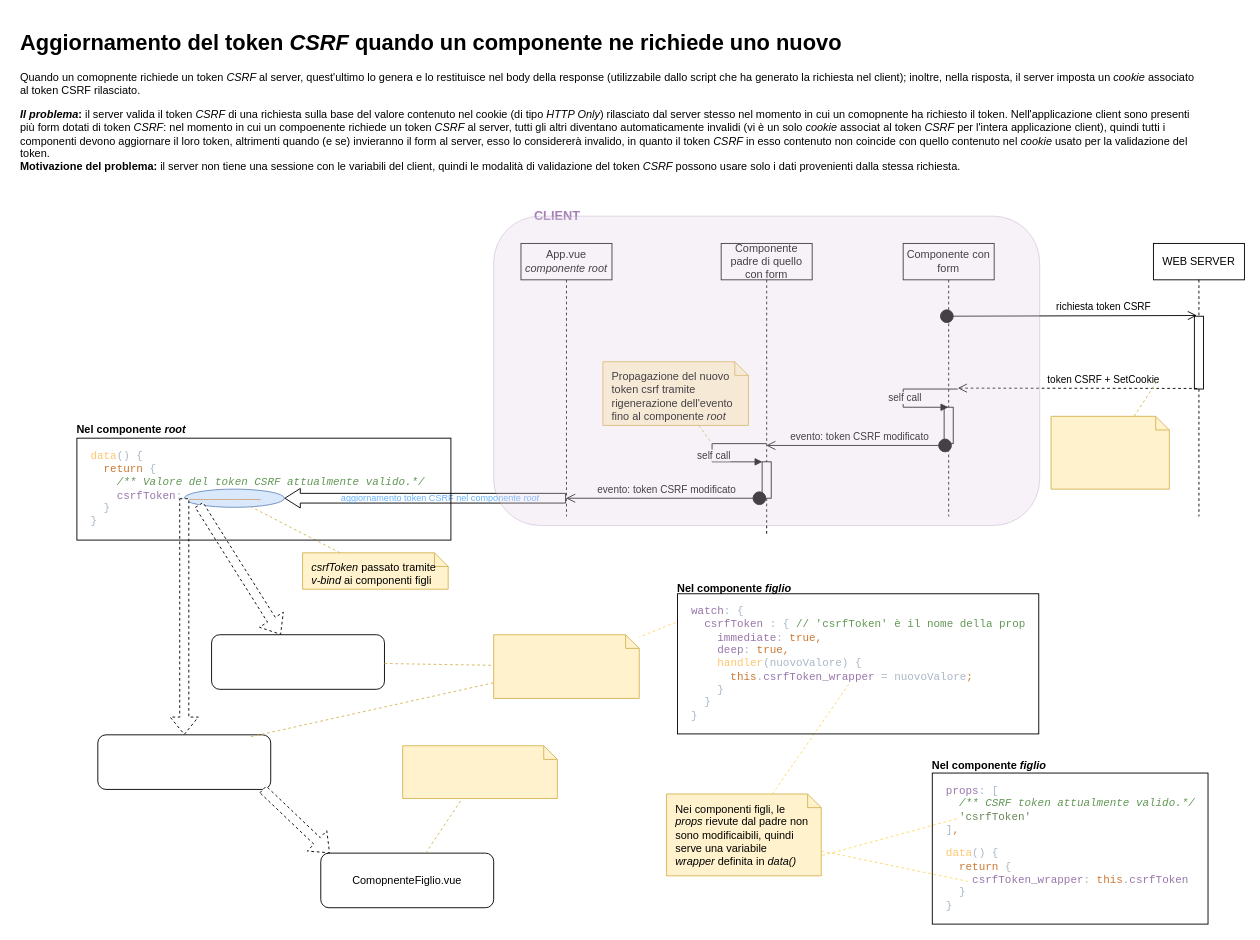
Some shapes in this 1260 by 940 pixel diagram are drawn without their labels. The shapes that lost their labels are listed below. From the top down, each one's centre as x and y in pixels, then its label:
pixel 1109 452: Il cookie contenente il token CSRF è lo stesso per l'intera applicazione client.
pixel 297 661: Header.vue
pixel 566 666: I componenti figli si accorgono del nuovo valore grazie ad un watch
pixel 184 761: AreaRiservata.vue
pixel 479 772: A loro volta anche i figli dei figli si aggiornano, sempre grazie ad un watch
